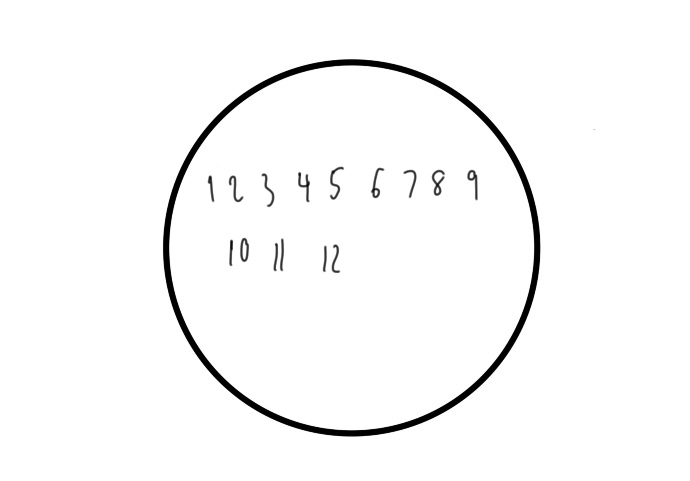eight: (429, 167, 448, 197)
eleven: (271, 235, 287, 274)
five: (327, 163, 345, 199)
four: (296, 172, 312, 203)
nine: (464, 165, 485, 204)
one: (207, 172, 217, 203)
seven: (400, 165, 418, 201)
six: (370, 162, 385, 200)
ten: (226, 231, 252, 268)
three: (259, 170, 276, 209)
twelve: (320, 240, 343, 275)
two: (227, 173, 243, 203)
